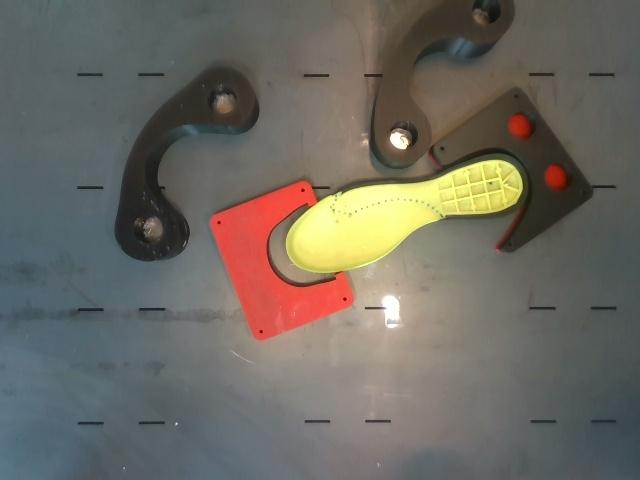shoes: (287, 157, 525, 271)
